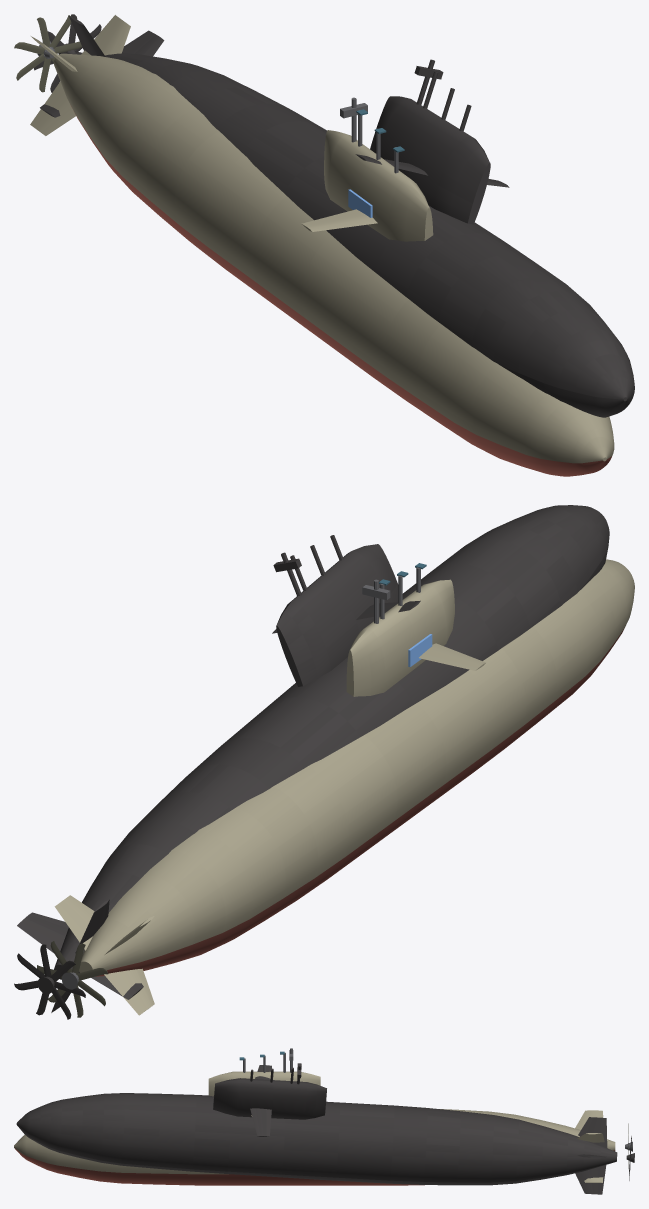
Rendered from submarine__todaro_class_type_212a.glb.
3 renders of one model, top to bottom at view 1: azimuth 30°, elevation 25°; view 2: azimuth 150°, elevation 25°; view 3: azimuth 270°, elevation 25°, orthographic. The views are drawn at different scales.
Visible parts, largest first — view 1: Hull_Mesh, Wreck; view 2: Hull_Mesh, Wreck; view 3: Wreck, Hull_Mesh.
Part boxes in pixels (x1,y1,x2,y2): Hull_Mesh: (14,15,614,476); Wreck: (34,14,634,417); Hull_Mesh: (37,559,634,1017); Wreck: (14,505,609,1019); Wreck: (16,1063,634,1194); Hull_Mesh: (14,1051,632,1185).
Size of what is drawn, in the model's own units: 11.48 by 13.83 by 55.42.
